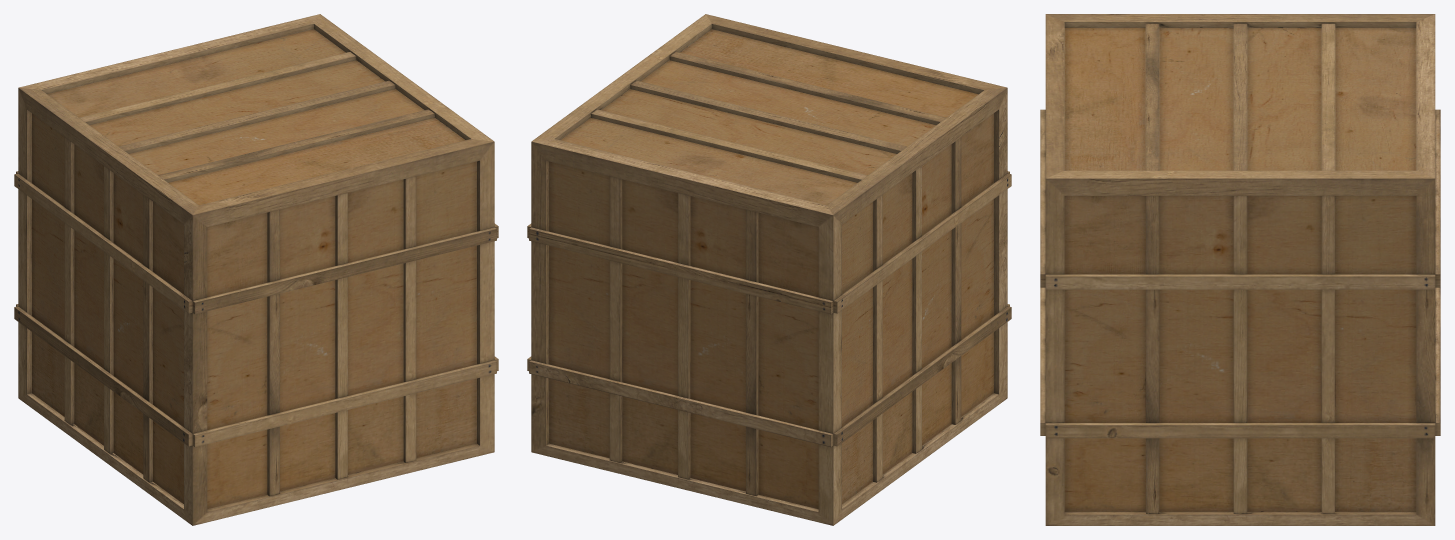
The picture shows the model from 3 angles, left to right: view 1: azimuth 30°, elevation 25°; view 2: azimuth 150°, elevation 25°; view 3: azimuth 270°, elevation 25°; orthographic projection. The views are drawn at different scales.
Visible parts, largest first — view 1: Box; view 2: Box; view 3: Box.
Boxes of the visible parts, left/top/right/bottom form: Box: left=14, top=14, right=498, bottom=525; Box: left=527, top=14, right=1011, bottom=525; Box: left=1040, top=14, right=1440, bottom=525.
Bounding box in the file's own units: 425 × 407 × 425.
1 material, 1 textured.
